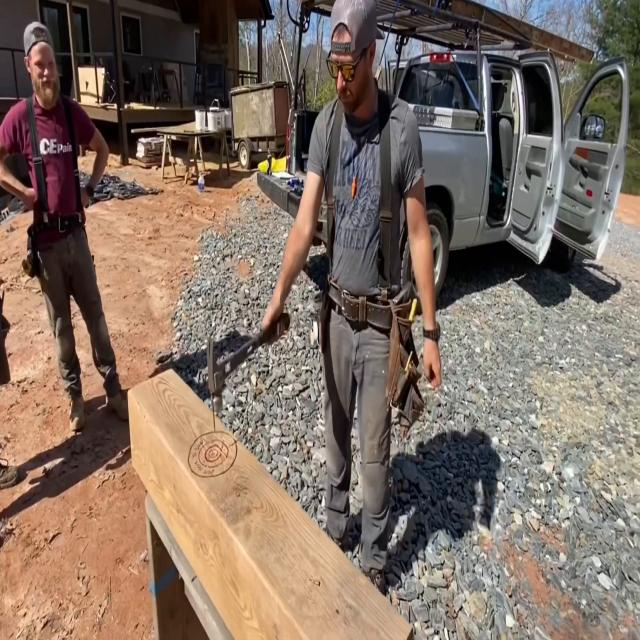hammer: (208, 312, 290, 410)
